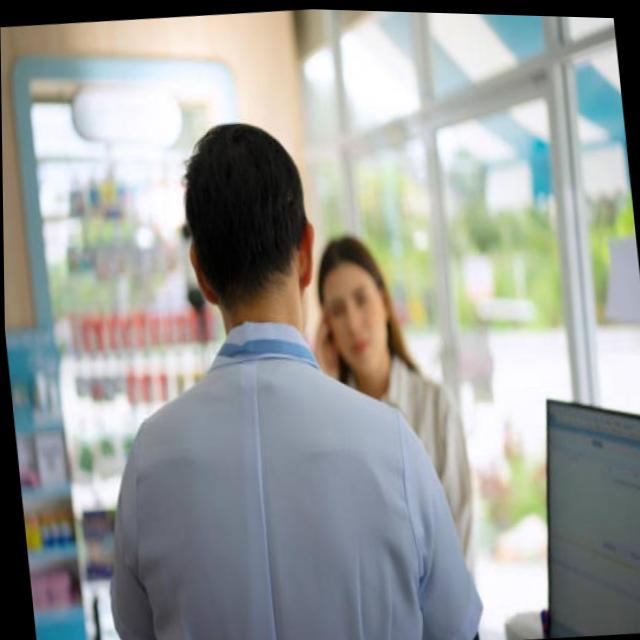no helmet: (171, 110, 326, 346)
